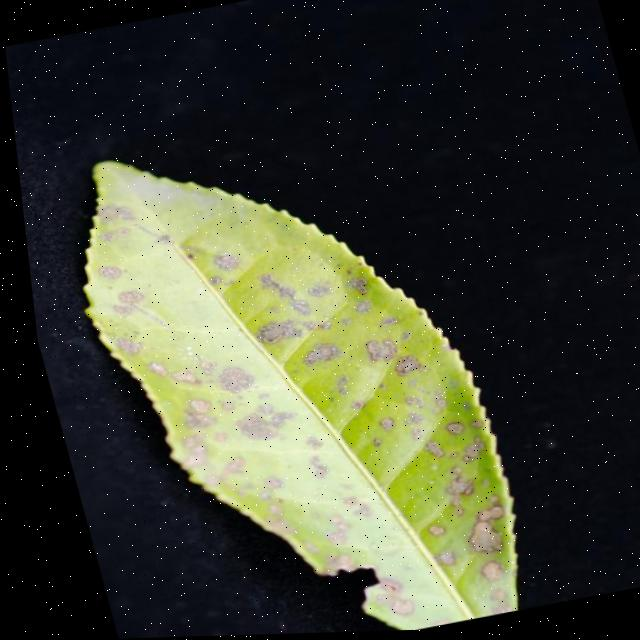Tea red rust: (59, 143, 519, 635)
